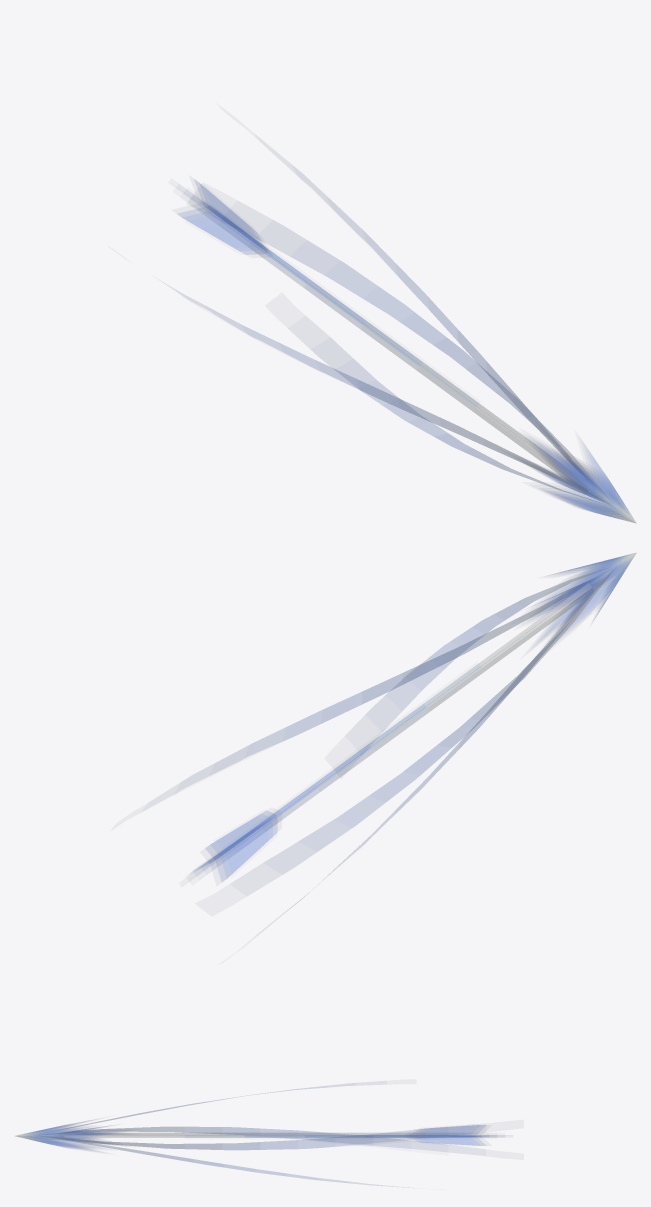
The picture shows the model from 3 angles, top to bottom: view 1: azimuth 30°, elevation 25°; view 2: azimuth 150°, elevation 25°; view 3: azimuth 270°, elevation 25°; orthographic projection. The views are drawn at different scales.
Visible parts, largest first — view 1: layer_00_oe2562L00; view 2: layer_00_oe2562L00; view 3: layer_00_oe2562L00.
Part boxes in pixels (x1=…): layer_00_oe2562L00: x1=178, y1=179, x2=636, y2=523; layer_00_oe2562L00: x1=193, y1=552, x2=636, y2=907; layer_00_oe2562L00: x1=15, y1=1086, x2=504, y2=1182.
Bounding box in the file's own units: 9.81 × 9.71 × 62.03.
1 material, 1 textured.
